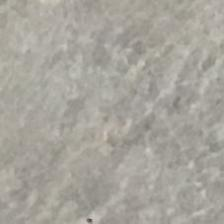Non_Crack: (6, 39, 220, 205)
